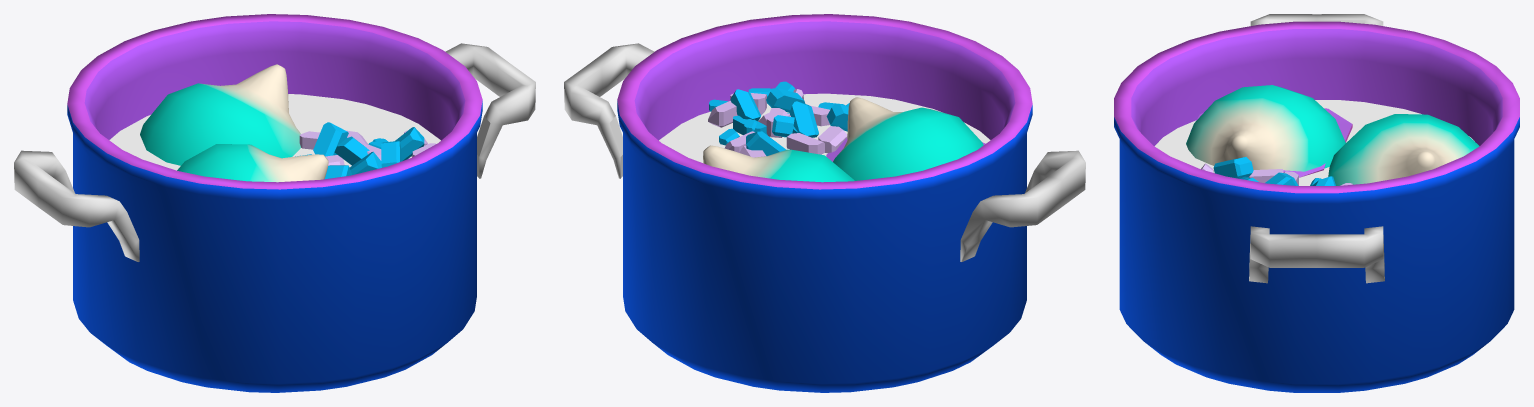
The model's file is FrenchOnionSoupPot.fbx.
3 views of the same model, side by side, from view 1: azimuth 30°, elevation 25°; view 2: azimuth 150°, elevation 25°; view 3: azimuth 270°, elevation 25° (orthographic).
Parts seen in each view (by area): view 1: Cylinder, Onion.002, Cylinder.003, Water (2), Onion.003, Potato - Chopped, Potato - Chopped (1), Potato - Chopped (2); view 2: Cylinder, Cylinder.003, Onion.003, Onion.002, Water (2), Potato - Chopped (1), Potato - Chopped, Potato - Chopped (2); view 3: Cylinder, Onion.003, Onion.002, Cylinder.003, Water (2), Potato - Chopped (2), Potato - Chopped.
Boxes of the visible parts, box(x1,y1,x2,y2) form: Cylinder: box(67, 14, 482, 392); Onion.002: box(140, 64, 300, 165); Cylinder.003: box(14, 43, 535, 261); Water (2): box(109, 94, 440, 170); Onion.003: box(177, 144, 328, 182); Potato - Chopped: box(295, 122, 388, 165); Potato - Chopped (1): box(363, 127, 435, 167); Potato - Chopped (2): box(324, 151, 381, 179); Cylinder: box(617, 14, 1032, 392); Cylinder.003: box(564, 43, 1085, 261); Onion.003: box(833, 97, 983, 180); Onion.002: box(703, 145, 854, 182); Water (2): box(659, 93, 990, 162); Potato - Chopped (1): box(708, 81, 805, 137); Potato - Chopped: box(719, 113, 824, 157); Potato - Chopped (2): box(787, 101, 849, 153); Cylinder: box(1114, 21, 1519, 392); Onion.003: box(1186, 85, 1345, 171); Onion.002: box(1328, 114, 1479, 185); Cylinder.003: box(1249, 14, 1384, 283); Water (2): box(1154, 100, 1474, 185); Potato - Chopped (2): box(1201, 157, 1283, 182); Potato - Chopped: box(1265, 171, 1352, 185).
Size of the model in its own units: 83.38 by 35.99 by 62.94.
